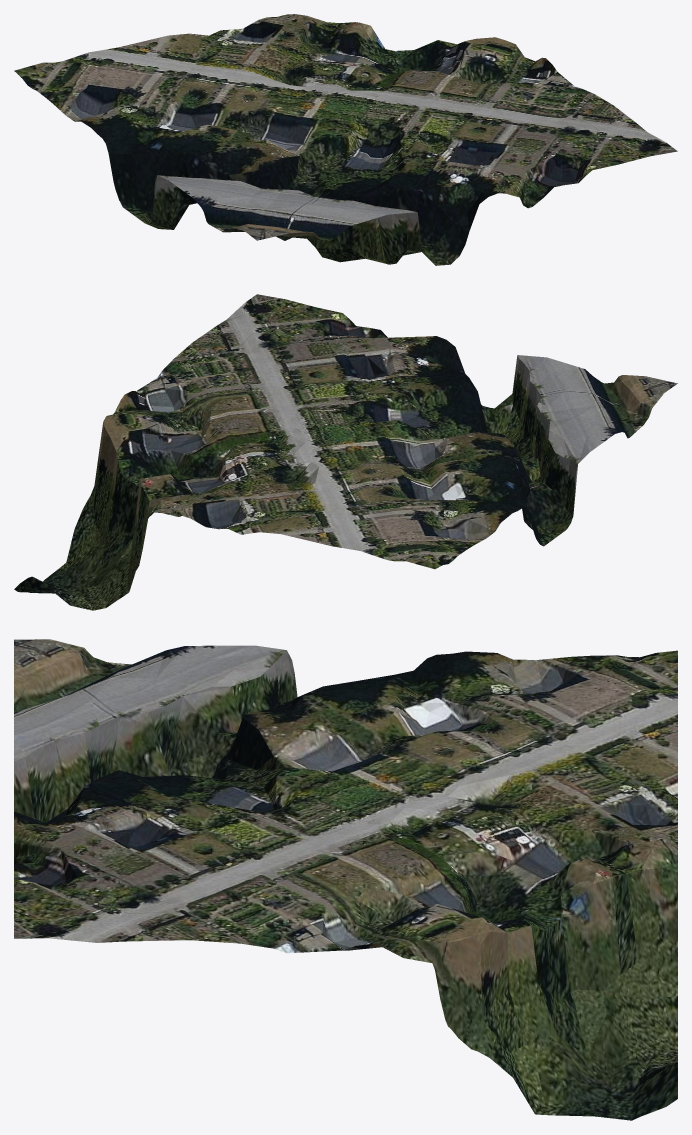
Rendered from map_15_8185_13787.dae.
3 views of the same model, one above another, from view 1: azimuth 30°, elevation 25°; view 2: azimuth 150°, elevation 25°; view 3: azimuth 270°, elevation 25° (orthographic). The views are drawn at different scales.
Parts seen in each view (by area): view 1: Ter0; view 2: Ter0; view 3: Ter0.
Boxes of the visible parts, x1,y1,x2,y2 form: Ter0: (14, 14, 677, 265); Ter0: (14, 294, 677, 610); Ter0: (14, 639, 677, 1120).
Size of the model in its own units: 63.87 by 63.88 by 21.31.
Materials: 3 (3 with a texture image).
